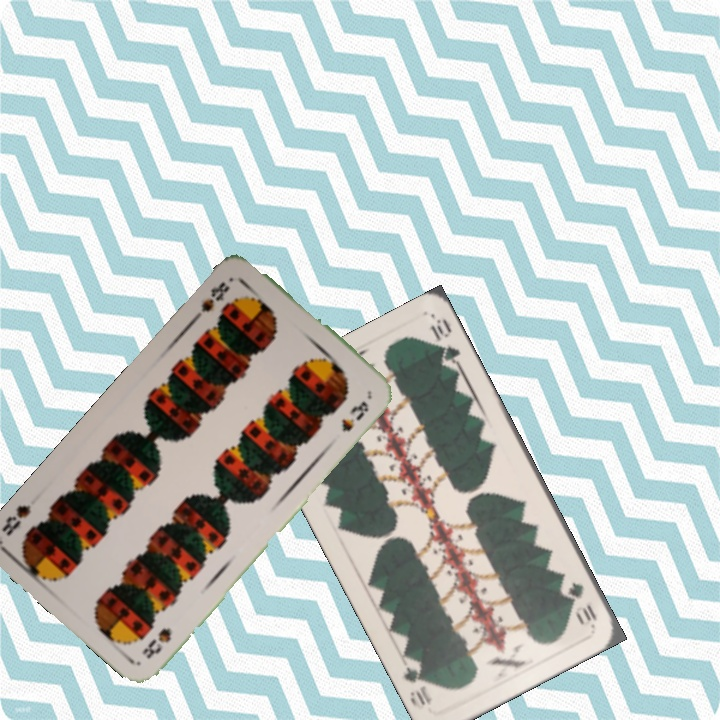G10: (563, 577, 600, 626)
S8: (191, 277, 233, 322), (138, 623, 174, 662)
